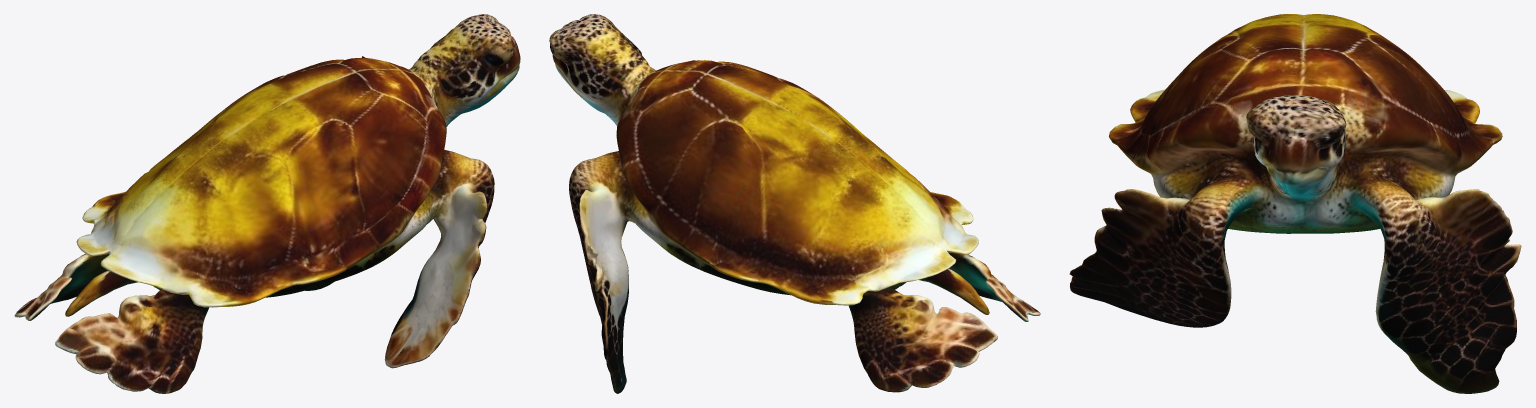
Rendered from sea_turtle.glb.
3 renders of one model, left to right at view 1: azimuth 30°, elevation 25°; view 2: azimuth 150°, elevation 25°; view 3: azimuth 270°, elevation 25°, orthographic. The views are drawn at different scales.
Parts seen in each view (by area): view 1: tripo_node_57b06d4f-dd17-4580-aa32-a8adbbd9caeb; view 2: tripo_node_57b06d4f-dd17-4580-aa32-a8adbbd9caeb; view 3: tripo_node_57b06d4f-dd17-4580-aa32-a8adbbd9caeb.
Boxes of the visible parts, x1,y1,x2,y2 form: tripo_node_57b06d4f-dd17-4580-aa32-a8adbbd9caeb: (14, 14, 520, 393); tripo_node_57b06d4f-dd17-4580-aa32-a8adbbd9caeb: (549, 14, 1040, 393); tripo_node_57b06d4f-dd17-4580-aa32-a8adbbd9caeb: (1069, 14, 1521, 393).
Size of the model in its own units: 0.9993 by 0.5918 by 0.6803.
Materials: 1 (1 with a texture image).
